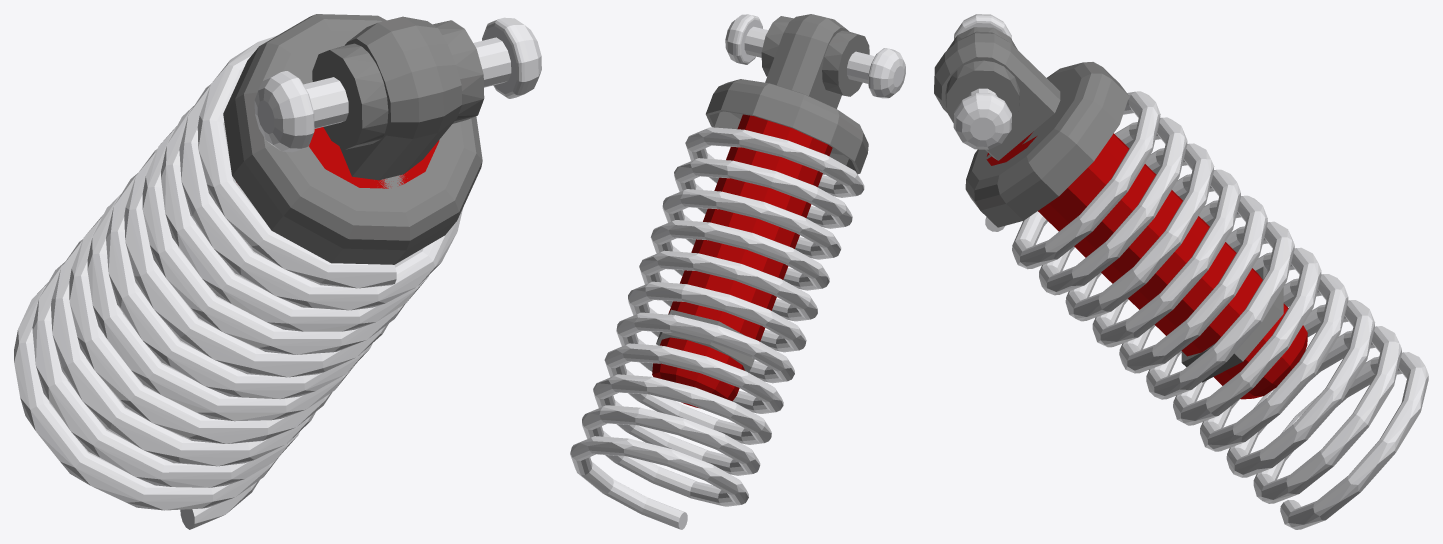
Rendered from shock_lb_1_vis.dae.
3 renders of one model, left to right at view 1: azimuth 30°, elevation 25°; view 2: azimuth 150°, elevation 25°; view 3: azimuth 270°, elevation 25°, orthographic. The views are drawn at different scales.
Parts seen in each view (by area): view 1: shock_lb_1_vis; view 2: shock_lb_1_vis; view 3: shock_lb_1_vis.
Part boxes in pixels (x1,y1,x2,y2): shock_lb_1_vis: (14,14,541,529); shock_lb_1_vis: (570,14,905,529); shock_lb_1_vis: (934,14,1428,529).
Size of the model in its own units: 0.052 by 0.1155 by 0.1239.
